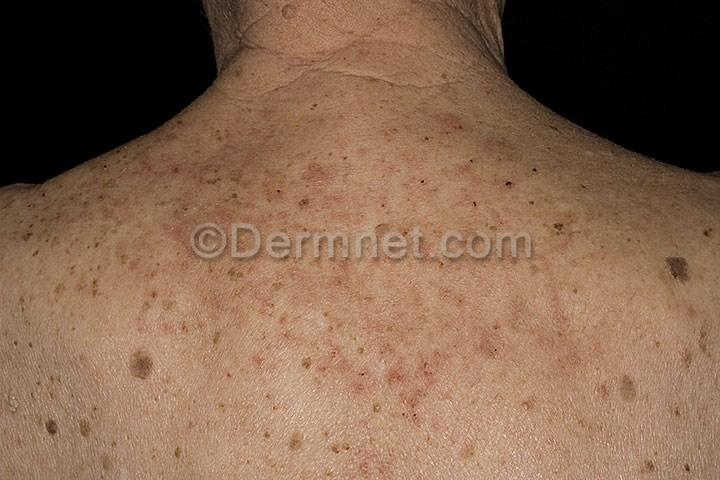Eczema: (299, 335, 496, 474), (269, 146, 406, 218), (127, 146, 226, 204)
